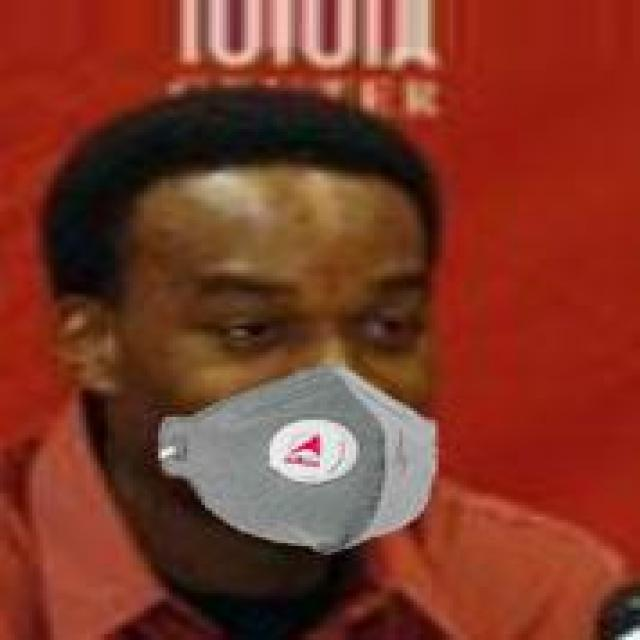mask: (40, 85, 532, 567)
